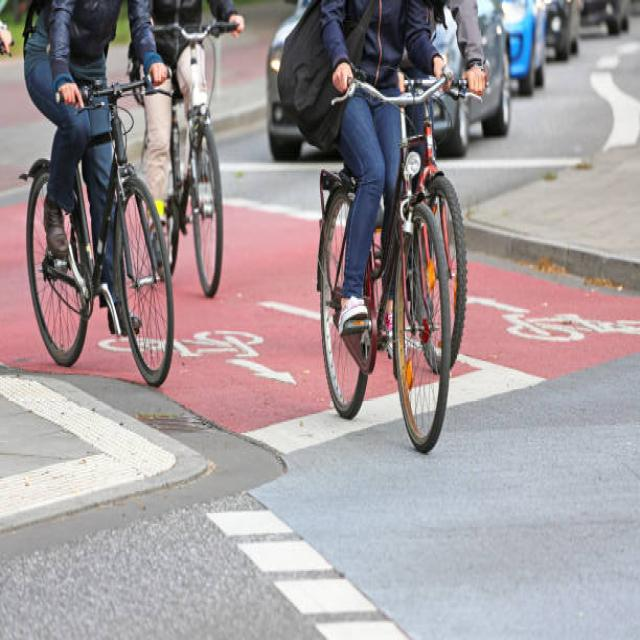bicycle: (279, 0, 451, 451), (24, 0, 174, 386), (144, 0, 244, 296)
